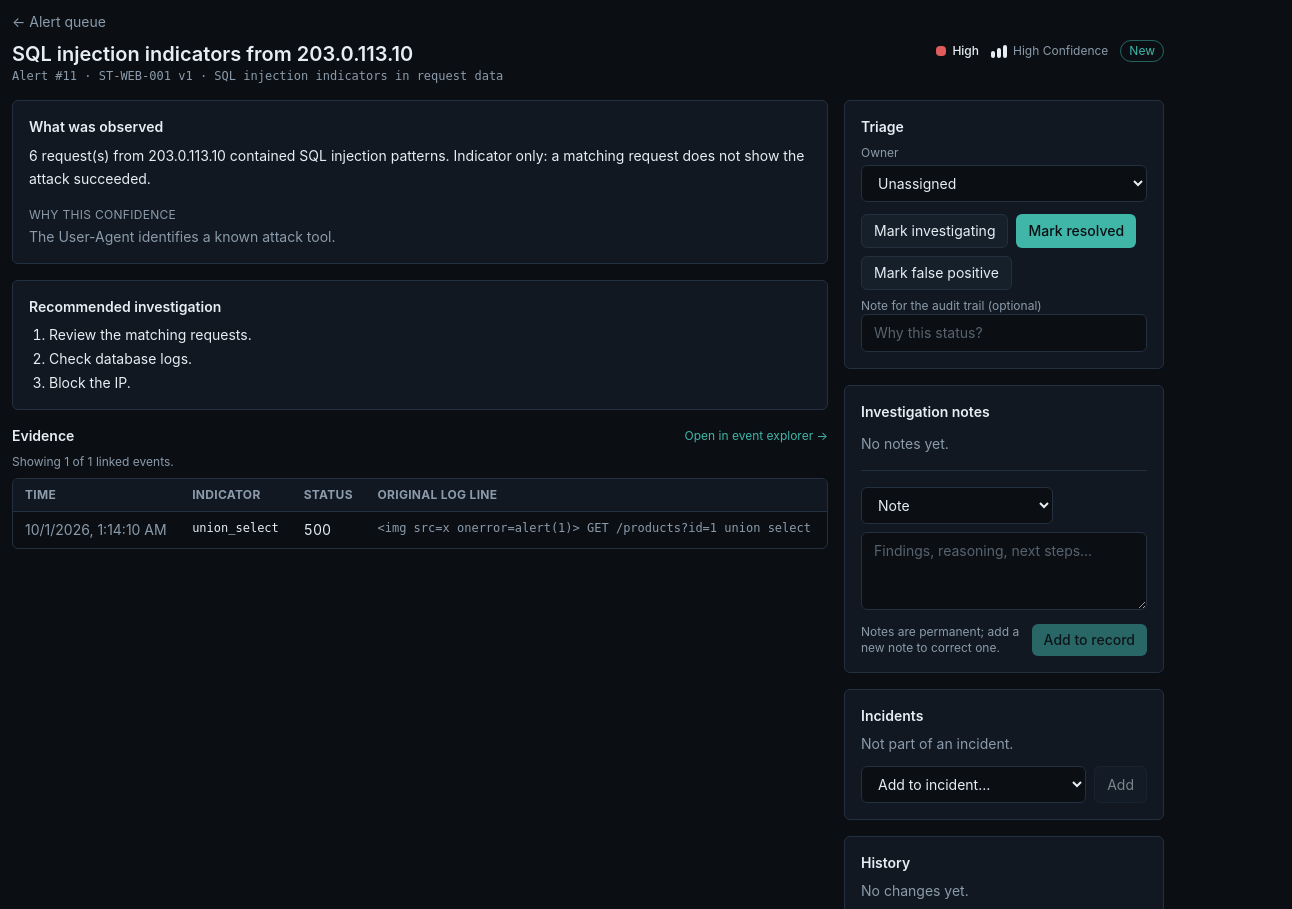
Test: AlertDetailPage › shows a triage error
Click the button "Mark resolved": [1076, 231] box [1016,214,1136,248]
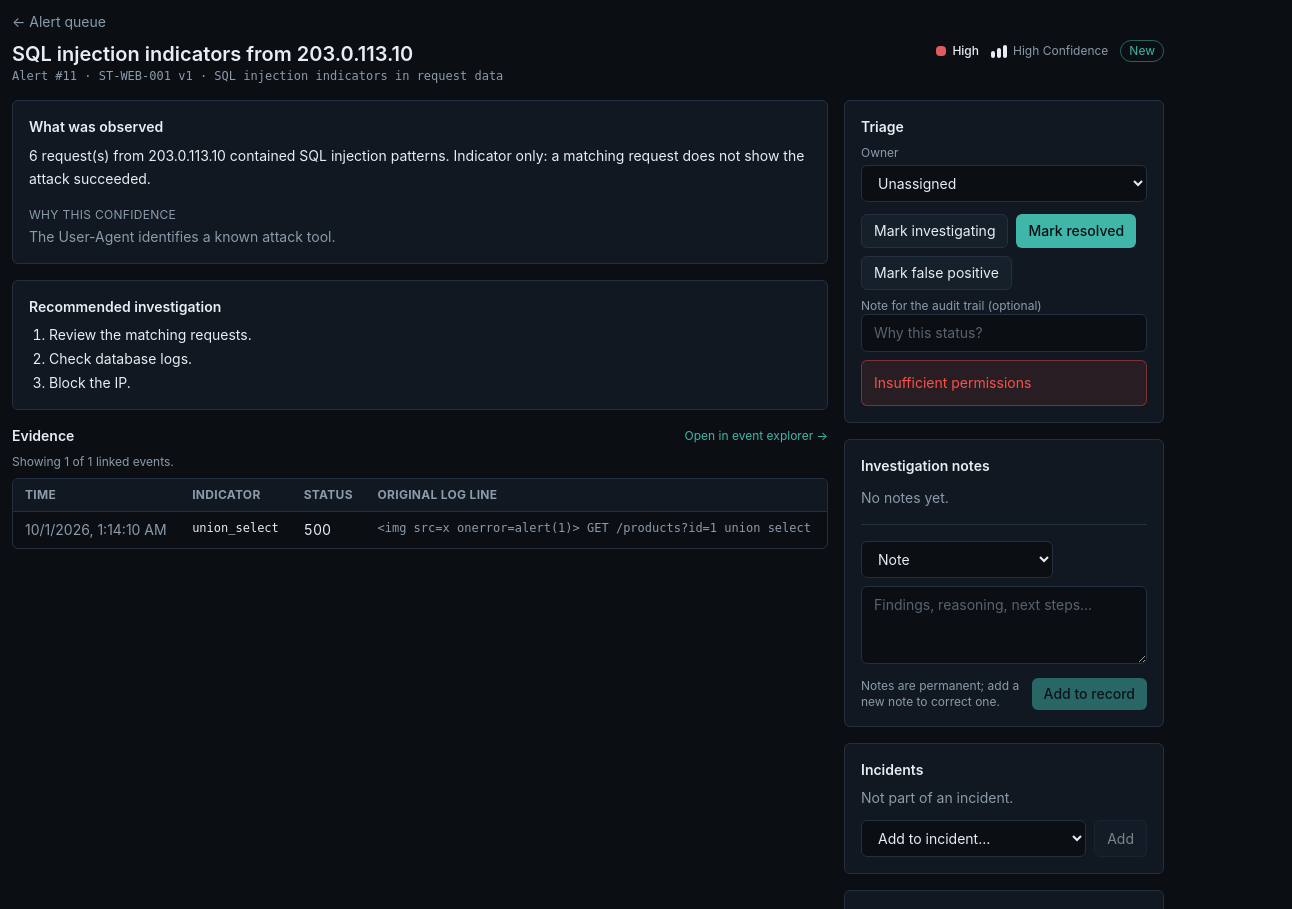
Result: the text "Insufficient permissions" is shown at [861,360,1147,406]
